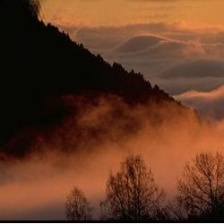neutral: (7, 5, 222, 221)
